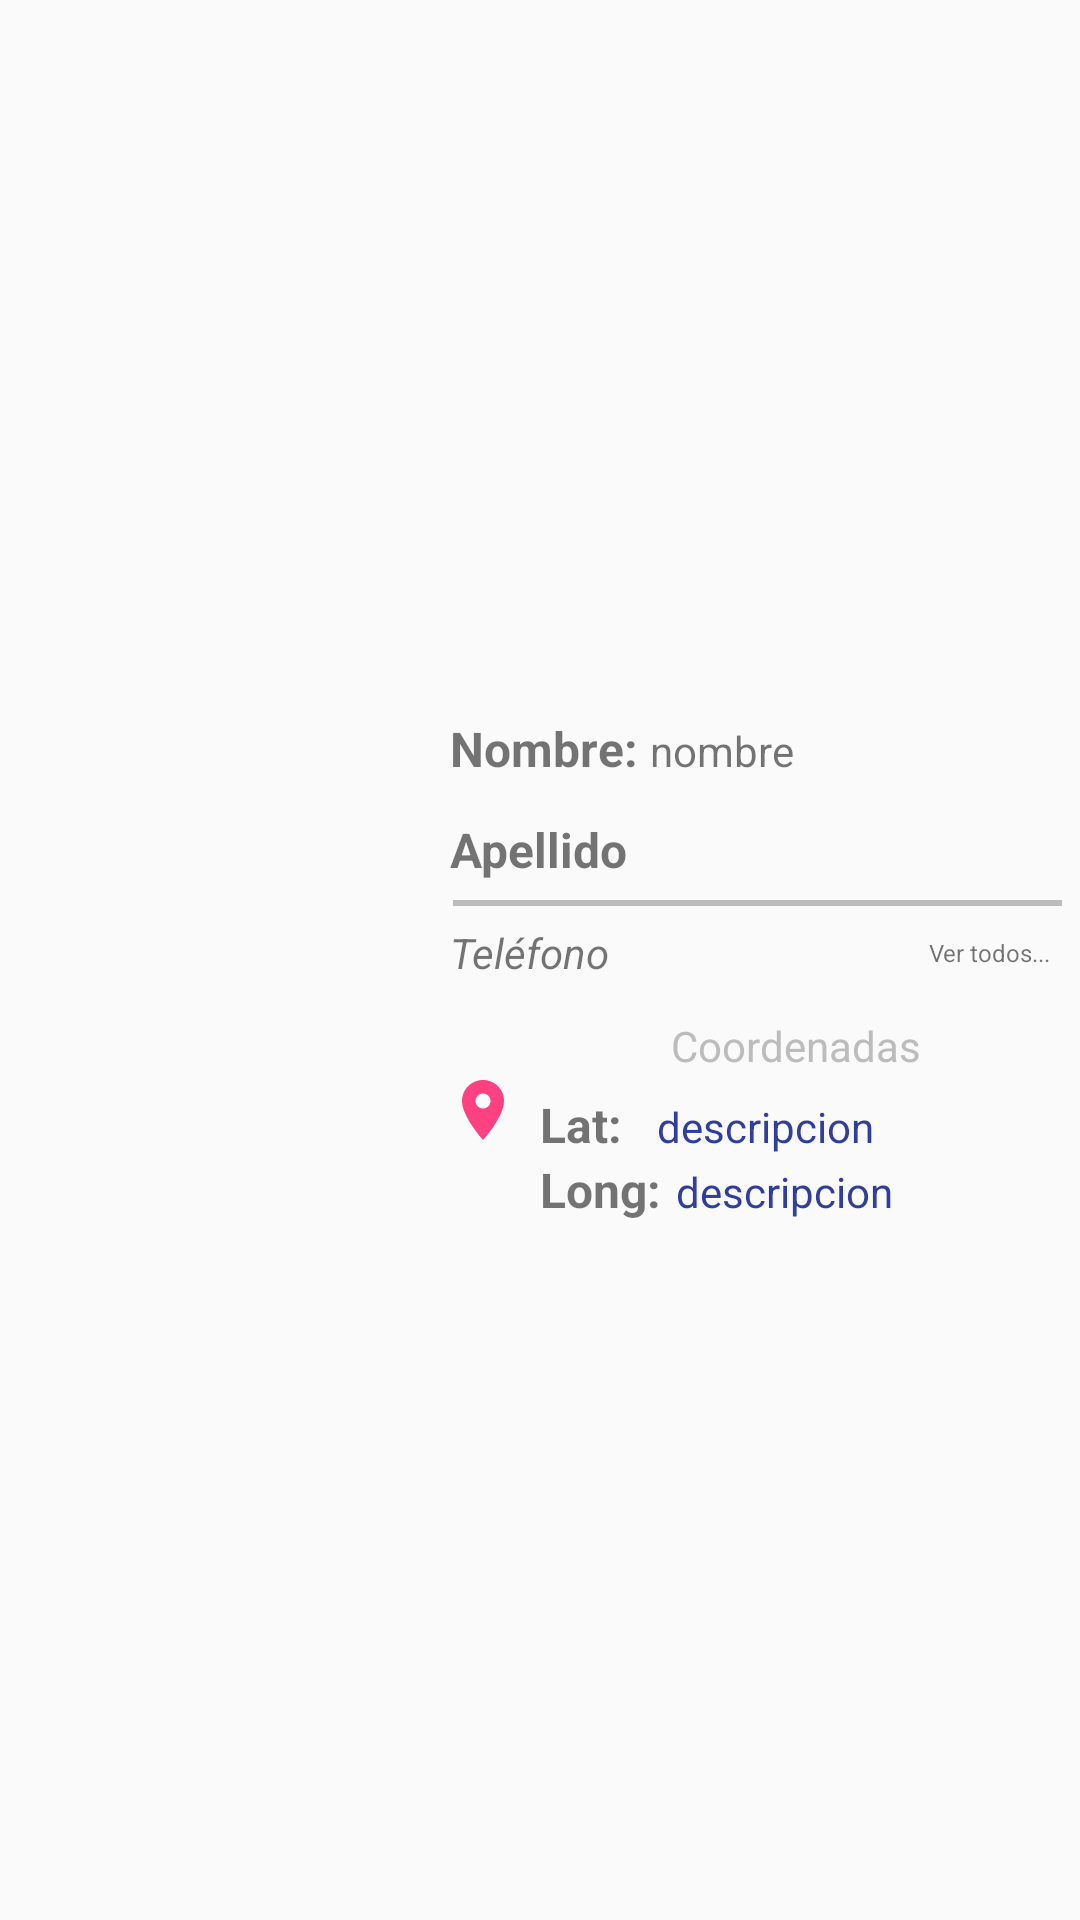

Icon bounding boxes for this 1080 x 1920 phone screenshot, format bbox=[x1, y1, x2, y2]:
location: bbox=[462, 1080, 504, 1140]
